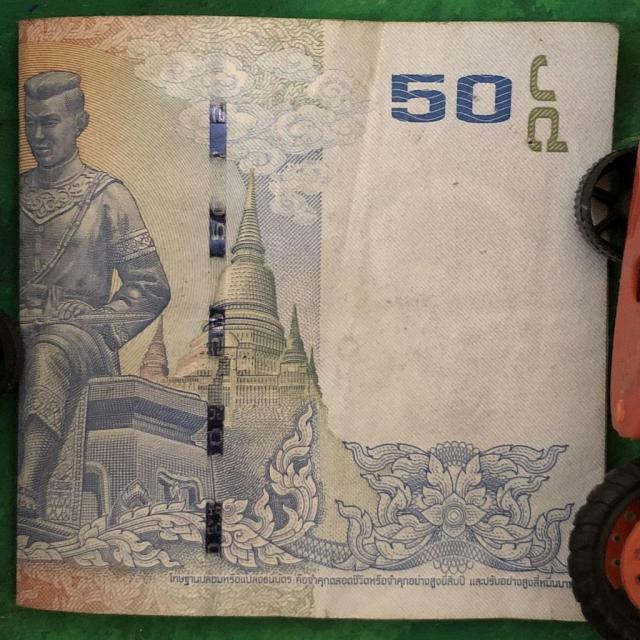THAI50: (14, 16, 621, 623)
